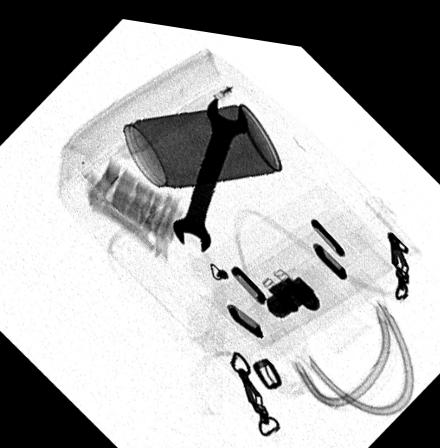Wrench: (172, 85, 246, 247)
